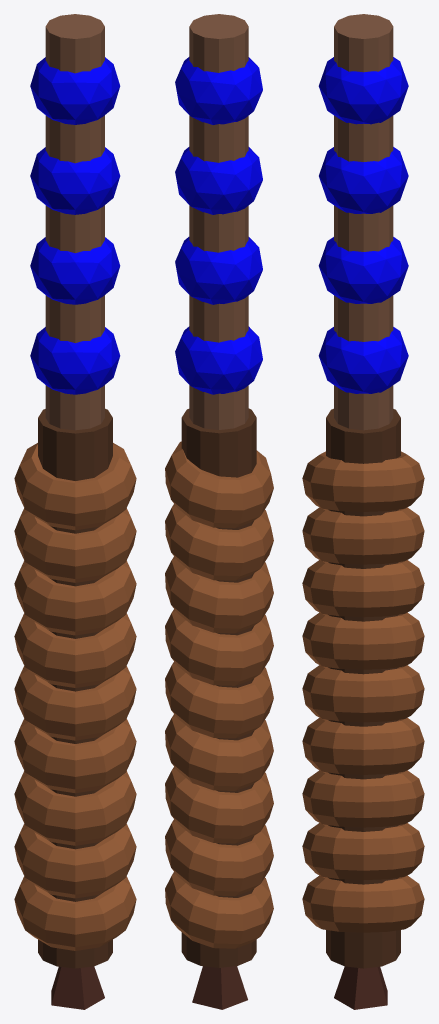
The model's file is Wand 438.glb.
3 renders of one model, left to right at view 1: azimuth 90°, elevation 25°; view 2: azimuth 150°, elevation 25°; view 3: azimuth 270°, elevation 25°, orthographic.
Visible parts, largest first — view 1: GeneratedWand; view 2: GeneratedWand; view 3: GeneratedWand.
Boxes of the visible parts, bbox=[...] form: GeneratedWand: bbox=[14, 14, 136, 1009]; GeneratedWand: bbox=[165, 14, 273, 1009]; GeneratedWand: bbox=[302, 14, 424, 1009].
Size of the model in its own units: 0.0497 by 0.5097 by 0.0581.
